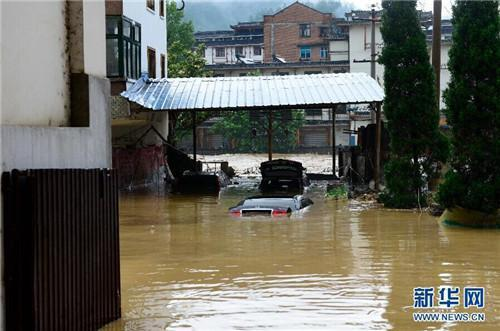water: (109, 197, 499, 330), (118, 153, 268, 216), (272, 153, 332, 172)
